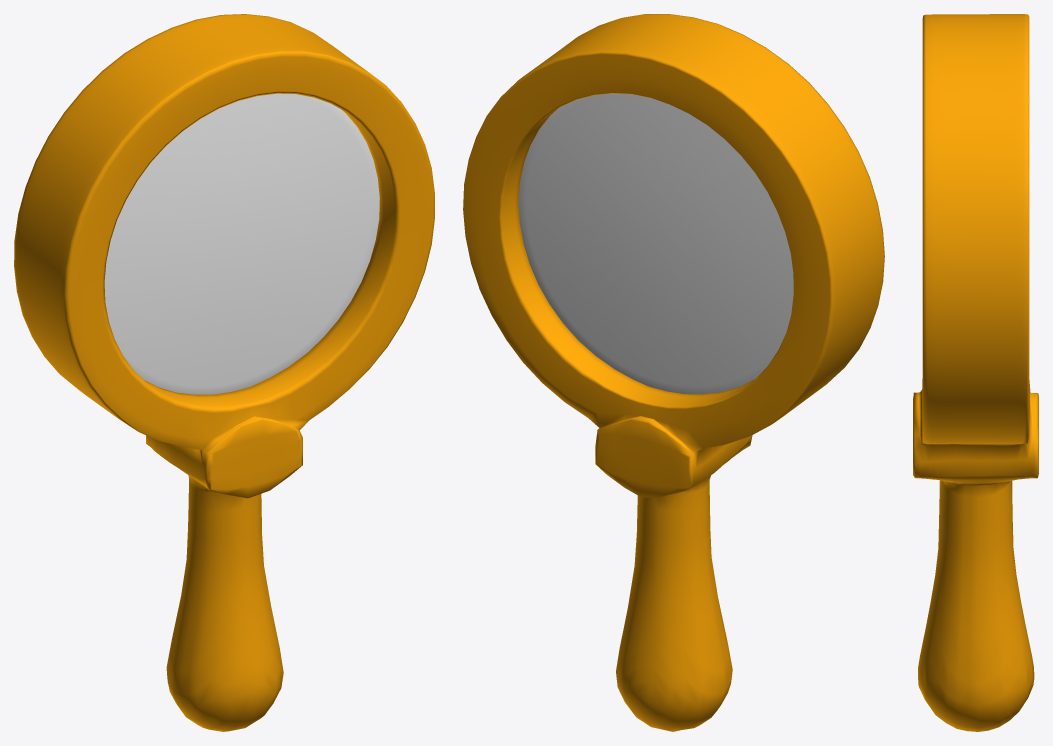
Rendered from Model_Magnifying_Glass_Final.fbx.
3 views of the same model, side by side, from view 1: azimuth 30°, elevation 25°; view 2: azimuth 150°, elevation 25°; view 3: azimuth 270°, elevation 25° (orthographic).
Visible parts, largest first — view 1: Magnifying_Glass; view 2: Magnifying_Glass; view 3: Magnifying_Glass.
Boxes of the visible parts, x1,y1,x2,y2 form: Magnifying_Glass: [14, 14, 434, 731]; Magnifying_Glass: [463, 14, 884, 731]; Magnifying_Glass: [913, 14, 1038, 731].
Size of the model in its own units: 10.22 by 18.12 by 2.99.
